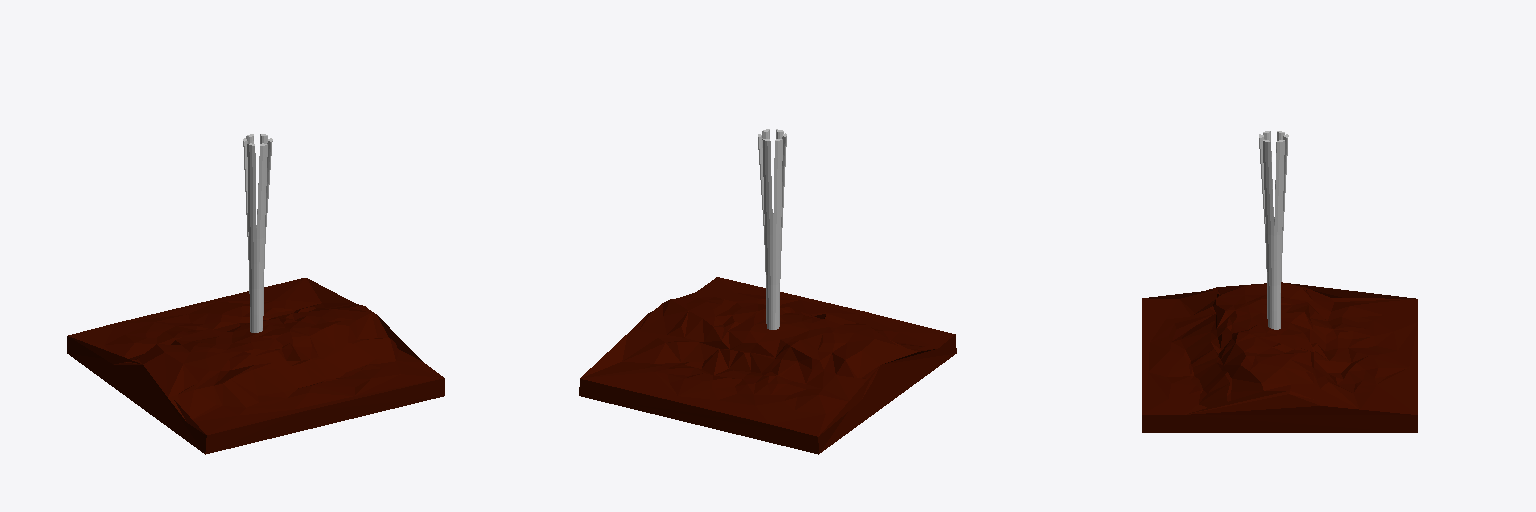
File: bedeng_bawang_1.obj
The picture shows the model from 3 angles: view 1: azimuth 30°, elevation 25°; view 2: azimuth 150°, elevation 25°; view 3: azimuth 270°, elevation 25°; orthographic projection.
Visible parts, largest first — view 1: PP_Meadow_Path_05_Scene.1042, Leek_Mesh; view 2: PP_Meadow_Path_05_Scene.1042, Leek_Mesh; view 3: PP_Meadow_Path_05_Scene.1042, Leek_Mesh.
Part boxes in pixels (left/top/right/bottom): PP_Meadow_Path_05_Scene.1042: left=67, top=278, right=444, bottom=454; Leek_Mesh: left=243, top=134, right=272, bottom=332; PP_Meadow_Path_05_Scene.1042: left=579, top=277, right=956, bottom=454; Leek_Mesh: left=758, top=129, right=786, bottom=329; PP_Meadow_Path_05_Scene.1042: left=1142, top=282, right=1417, bottom=432; Leek_Mesh: left=1259, top=131, right=1288, bottom=329.
Size of the model in its own units: 1 by 0.9474 by 1.